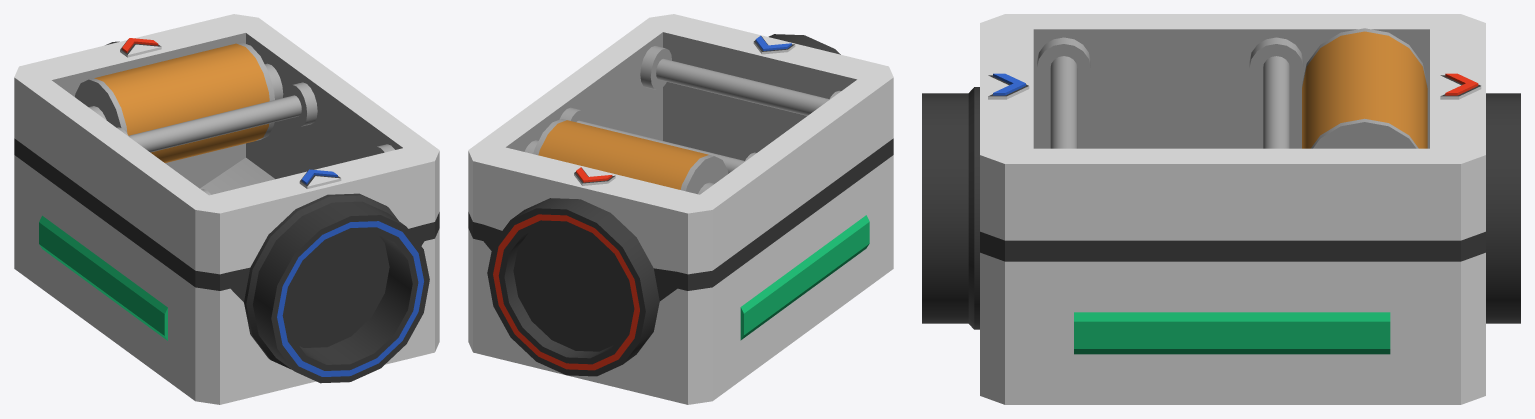
File: MagneticSeperator.fbx
3 views of the same model, side by side, from view 1: azimuth 30°, elevation 25°; view 2: azimuth 150°, elevation 25°; view 3: azimuth 270°, elevation 25° (orthographic). The views are drawn at different scales.
Visible parts, largest first — view 1: Magnetic Seperator; view 2: Magnetic Seperator; view 3: Magnetic Seperator.
Boxes of the visible parts, x1,y1,x2,y2 form: Magnetic Seperator: (14, 14, 439, 404); Magnetic Seperator: (468, 14, 893, 404); Magnetic Seperator: (922, 14, 1520, 404).
Size of the model in its own units: 60.88 by 46.94 by 100.
